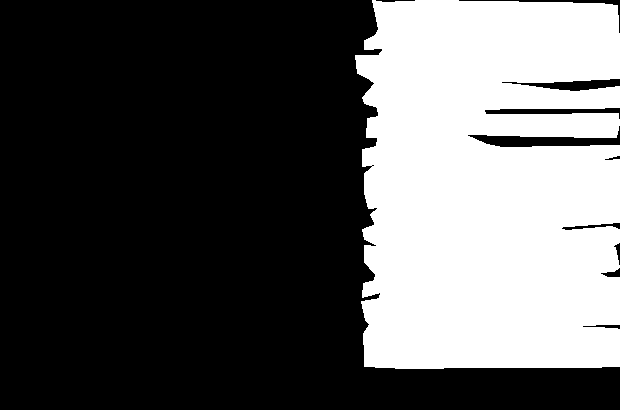type4: (353, 1, 620, 372)
